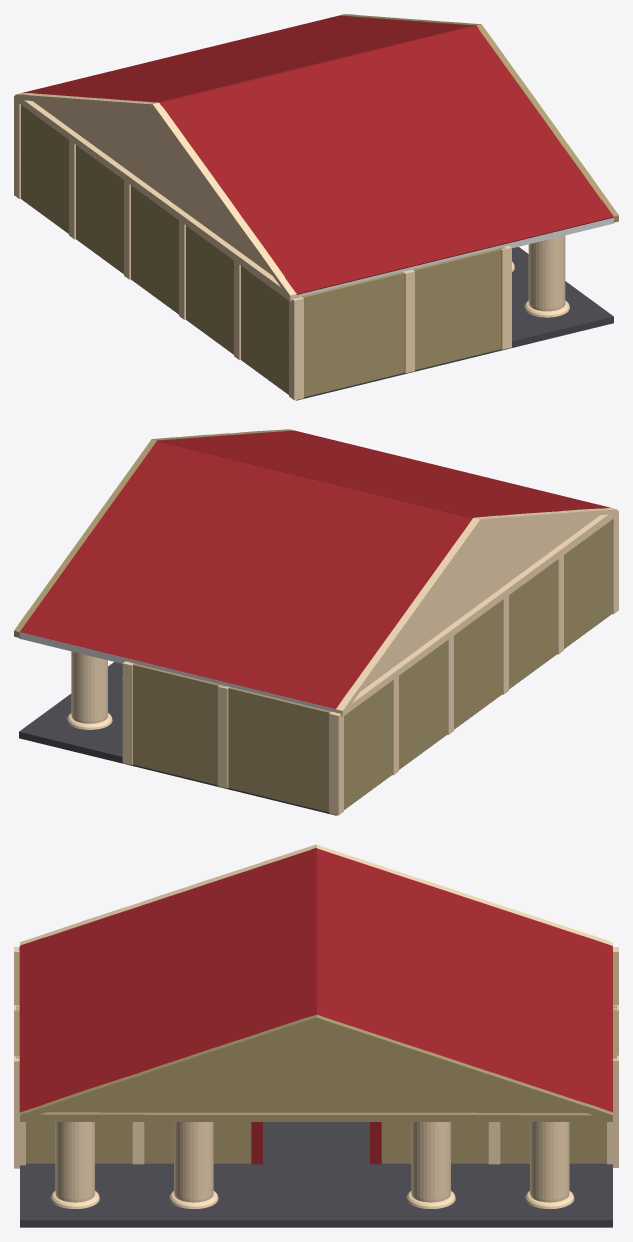
File: TownHall1.fbx
The picture shows the model from 3 angles, top to bottom: view 1: azimuth 30°, elevation 25°; view 2: azimuth 150°, elevation 25°; view 3: azimuth 270°, elevation 25°; orthographic projection. The views are drawn at different scales.
Parts seen in each view (by area): view 1: Cube.016, Cube.022, Cube.024, Cube.018, Cube.017, Cube, Cylinder, Cube.019, Cube.002, Cube.005, Cube.006, Cube.003 (+5 smaller); view 2: Cube.017, Cube.022, Cube.023, Cube.018, Cube.016, Cube, Cylinder.003, Cube.019, Cube.005, Cube.001, Cube.004, Cube.007 (+5 smaller); view 3: Cube.016, Cube.017, Cube, Cube.019, Cube.012, Cube.021, Cylinder.001, Cylinder.002, Cylinder, Cylinder.003, Cube.018, Cube.003 (+3 smaller).
Boxes of the visible parts, box(x1,y1,x2,y2) form: Cube.016: box(159, 25, 613, 294); Cube.022: box(21, 105, 299, 394); Cube.024: box(301, 247, 505, 397); Cube.018: box(15, 93, 296, 301); Cube.017: box(22, 15, 475, 102); Cube: box(23, 200, 613, 400); Cylinder: box(528, 235, 565, 311); Cube.019: box(339, 14, 618, 222); Cube.002: box(289, 296, 303, 400); Cube.005: box(296, 217, 613, 297); Cube.006: box(403, 269, 414, 373); Cube.003: box(501, 246, 511, 349); Cube.017: box(20, 440, 473, 708); Cube.022: box(344, 520, 611, 809); Cube.023: box(131, 663, 331, 812); Cube.018: box(336, 508, 617, 716); Cube.016: box(157, 430, 610, 517); Cube: box(19, 615, 610, 815); Cylinder.003: box(71, 651, 107, 723); Cube.019: box(14, 429, 293, 637); Cube.005: box(19, 632, 335, 712); Cube.001: box(329, 711, 343, 815); Cube.004: box(122, 661, 133, 764); Cube.007: box(218, 685, 229, 788); Cube.016: box(19, 847, 316, 1112); Cube.017: box(315, 848, 612, 1112); Cube: box(20, 1122, 612, 1227); Cube.019: box(20, 1014, 612, 1121); Cube.012: box(26, 1122, 251, 1163); Cube.021: box(381, 1122, 606, 1163); Cylinder.001: box(174, 1122, 213, 1202); Cylinder.002: box(411, 1122, 450, 1202); Cylinder: box(55, 1122, 94, 1202); Cylinder.003: box(530, 1122, 569, 1202); Cube.018: box(20, 844, 612, 945); Cube.003: box(14, 1056, 25, 1168).
Size of the model in its own units: 2071 by 1189 by 3060.
